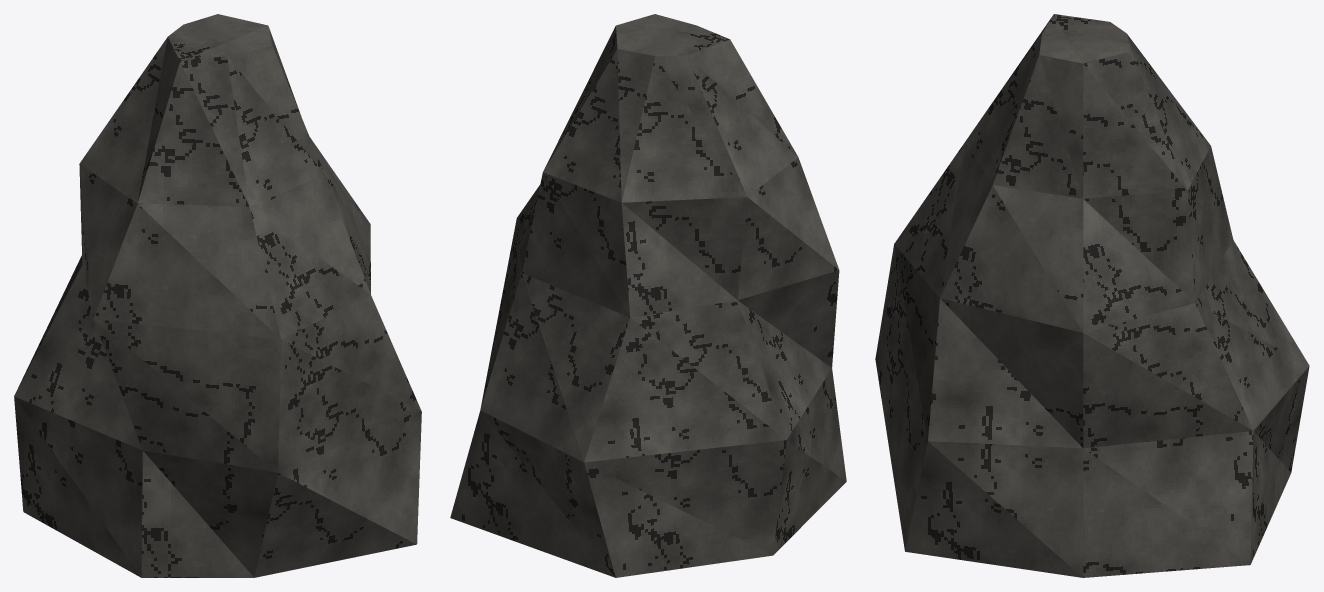
File: cliff_c.glb
The picture shows the model from 3 angles, left to right: view 1: azimuth 30°, elevation 25°; view 2: azimuth 150°, elevation 25°; view 3: azimuth 270°, elevation 25°; orthographic projection. The views are drawn at different scales.
Parts seen in each view (by area): view 1: rock-col; view 2: rock-col; view 3: rock-col.
Boxes of the visible parts, x1,y1,x2,y2 form: rock-col: [14, 14, 421, 577]; rock-col: [450, 14, 846, 577]; rock-col: [875, 14, 1309, 577].
Bounding box in the file's own units: 10.34 × 14.12 × 12.03.
1 material, 1 textured.
